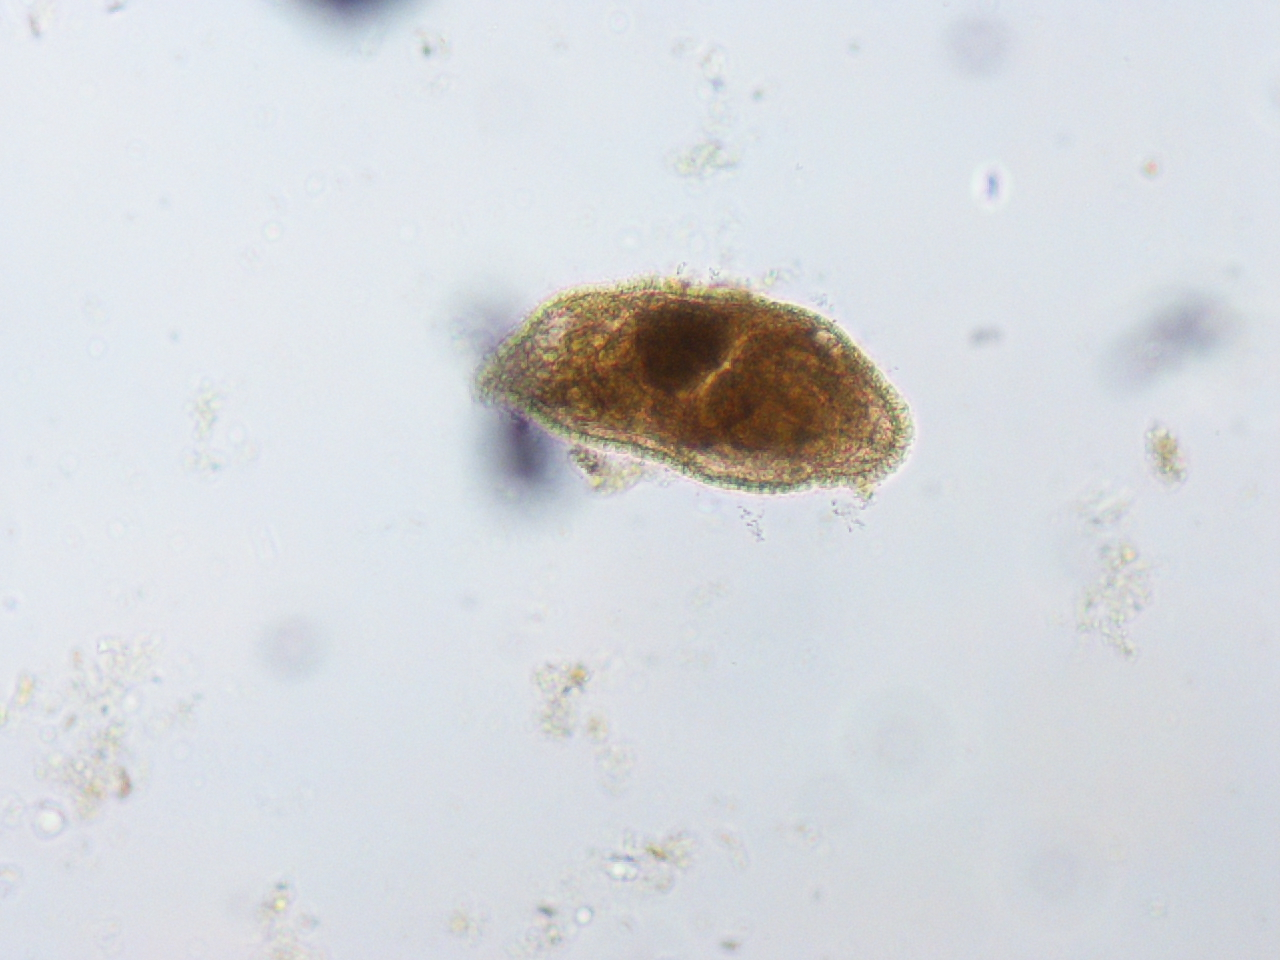turbellarians: (467, 281, 915, 494)
